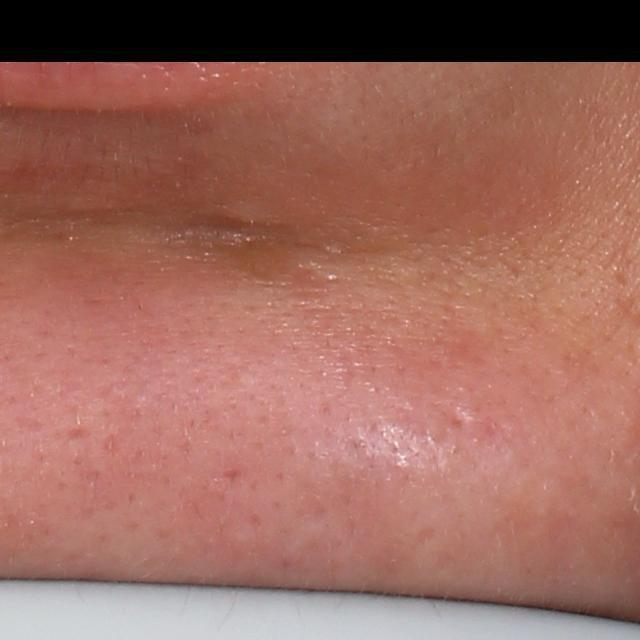atrophic_scar: (442, 407, 469, 431), (58, 426, 94, 442), (217, 469, 247, 488)
